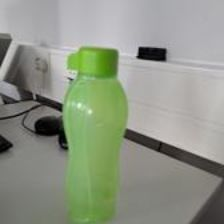bottle: (56, 42, 131, 223)
